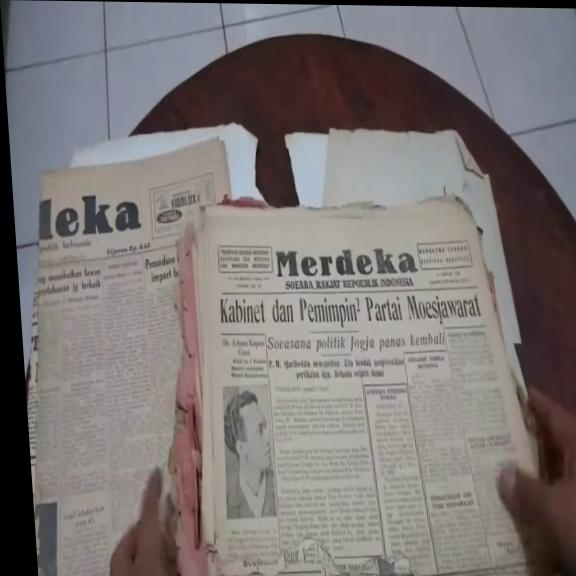Kertas: (182, 189, 543, 576), (10, 128, 264, 576)
